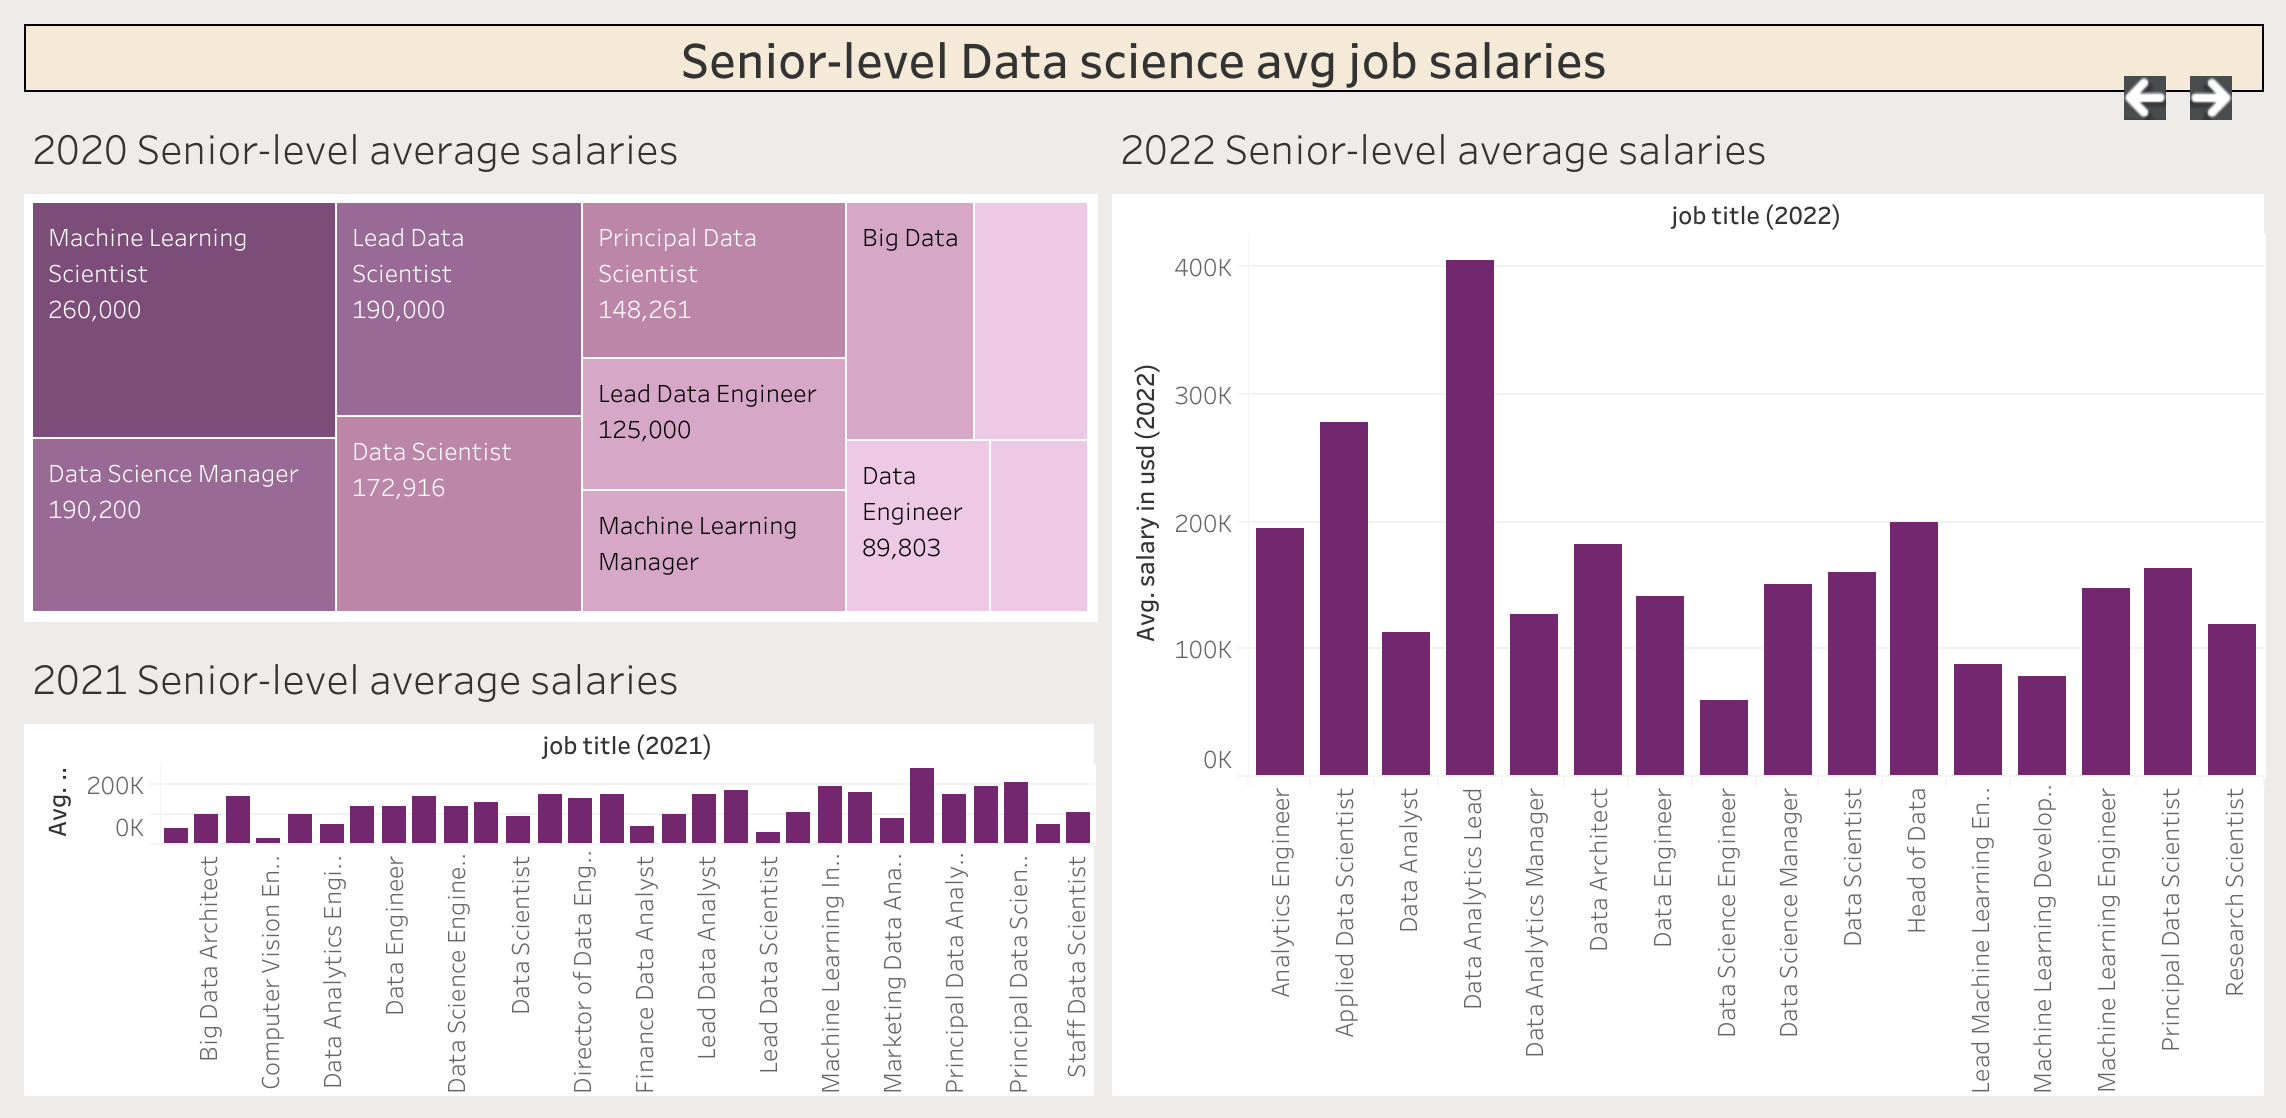

The page's visual inventory and layout, read from the dashboard file:
{"tool":"tableau","page":{"name":"Dashboard 2","canvas":[1000,1000],"units":"permille","ordinal":1},"visuals":[{"type":"title","box":[7.6,13.8,984.8,70.7]},{"type":"dashboard-object","box":[920.1,71.4,22.1,39.3]},{"type":"dashboard-object","box":[946.1,71.4,22.1,39.3]},{"type":"worksheet","title":"Sheet 4","mark":"Automatic","rows":["salary_in_usd"],"cols":["job_title"],"box":[7.6,84.5,461,450.2]},{"type":"worksheet","title":"Sheet 6","mark":"Automatic","rows":["salary_in_usd (2022 Junior level job salaries.csv)"],"cols":["job_title (2022 Junior level job salaries.csv)"],"box":[468.6,84.5,523.8,901.7]},{"type":"worksheet","title":"Sheet 5","mark":"Automatic","box":[7.6,534.7,461,451.5]}]}

Visuals, with their boxes on the dashboard's canvas, which has no fixed pixel size, in thousandths of its width and height (x1, y1, x2, y2). These are canvas units, not pixel positions in the 2286x1118 screenshot, which may show the page scaled, cropped or inside an application window:
title: {"x1": 8, "y1": 14, "x2": 992, "y2": 84}
dashboard-object: {"x1": 920, "y1": 71, "x2": 942, "y2": 111}
dashboard-object: {"x1": 946, "y1": 71, "x2": 968, "y2": 111}
"Sheet 4" worksheet: {"x1": 8, "y1": 84, "x2": 469, "y2": 535}
"Sheet 6" worksheet: {"x1": 469, "y1": 84, "x2": 992, "y2": 986}
"Sheet 5" worksheet: {"x1": 8, "y1": 535, "x2": 469, "y2": 986}
